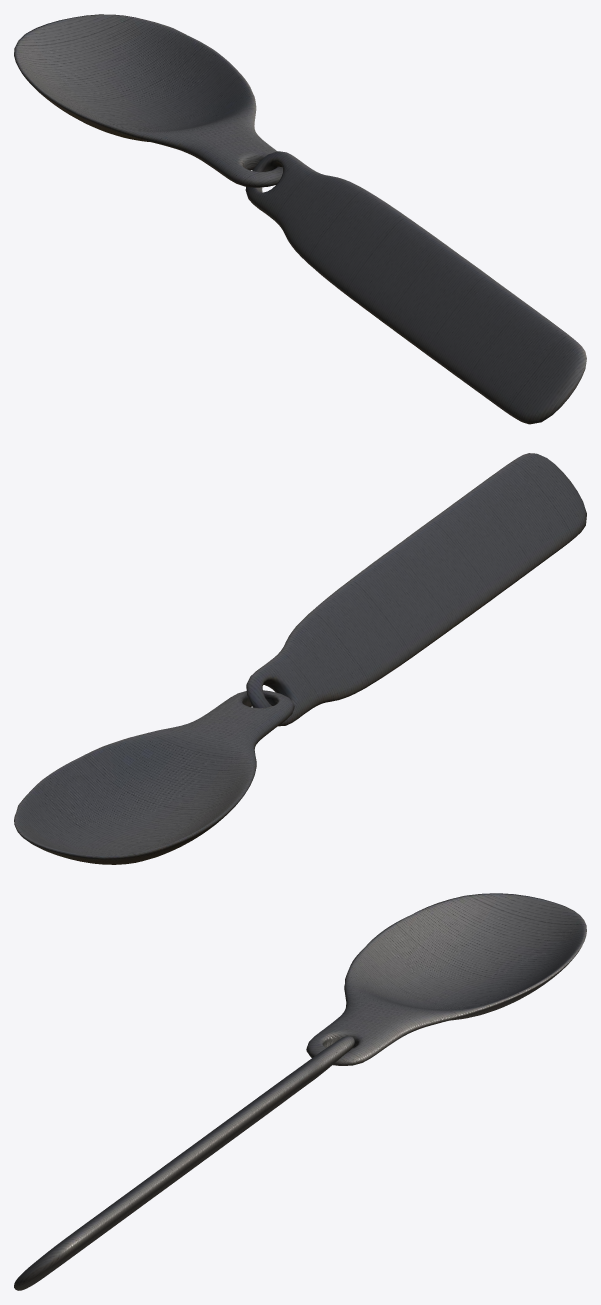
The picture shows the model from 3 angles, top to bottom: view 1: azimuth 30°, elevation 25°; view 2: azimuth 150°, elevation 25°; view 3: azimuth 330°, elevation 25°; orthographic projection.
Visible parts, largest first — view 1: 17_Link; view 2: 17_Link; view 3: 17_Link.
Boxes of the visible parts, box(x1,y1,x2,y2) form: 17_Link: box(14, 14, 586, 424); 17_Link: box(14, 453, 586, 864); 17_Link: box(14, 893, 586, 1290).
Bounding box in the file's own units: 0.0353 × 0.0141 × 0.1804.
1 material, 1 textured.
